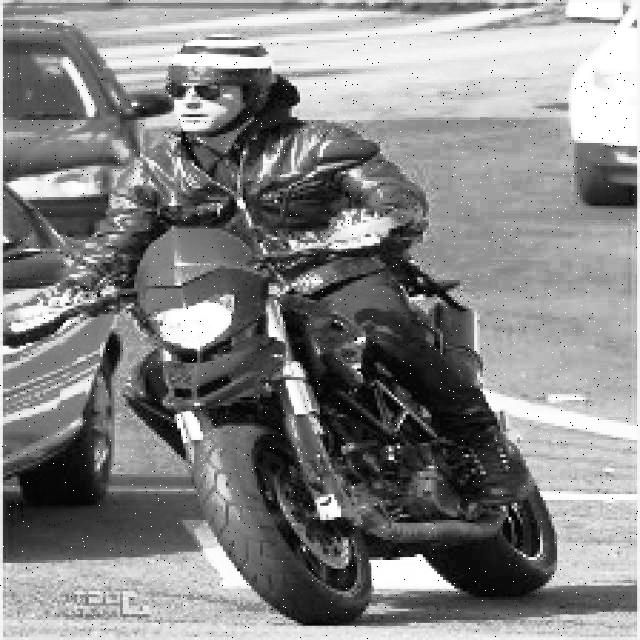Bike: (77, 220, 579, 623)
